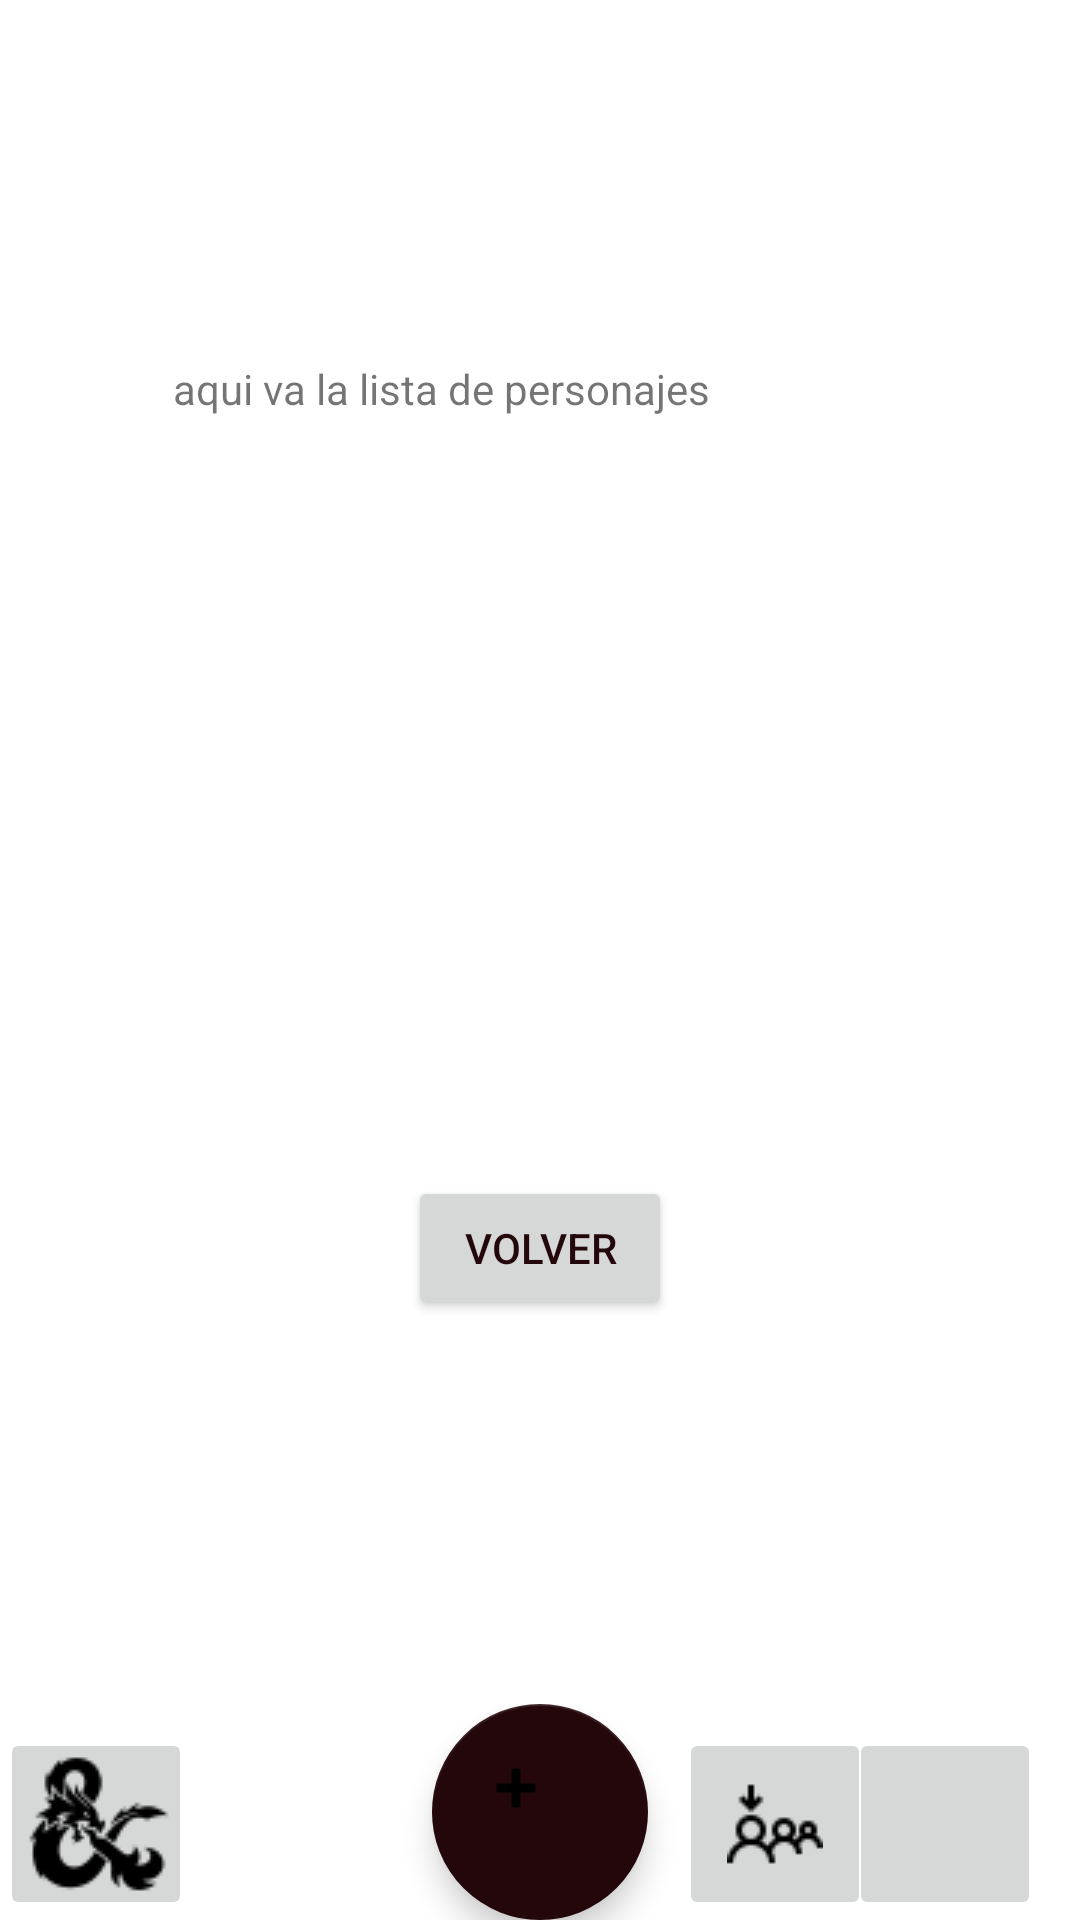

Named icons in this screenshot (1080w x 1920h) and their centers, (x,y):
add: (540,1812)
multiicon: (775,1824)
